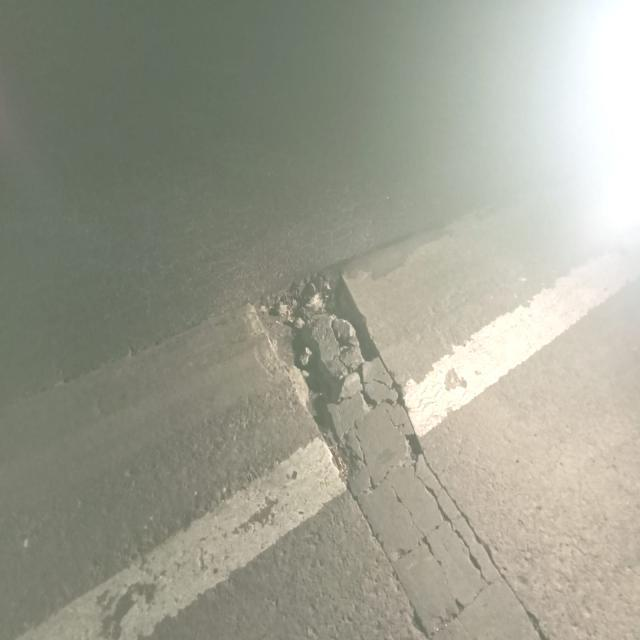Buraco: (245, 264, 408, 492), (397, 432, 428, 473)
